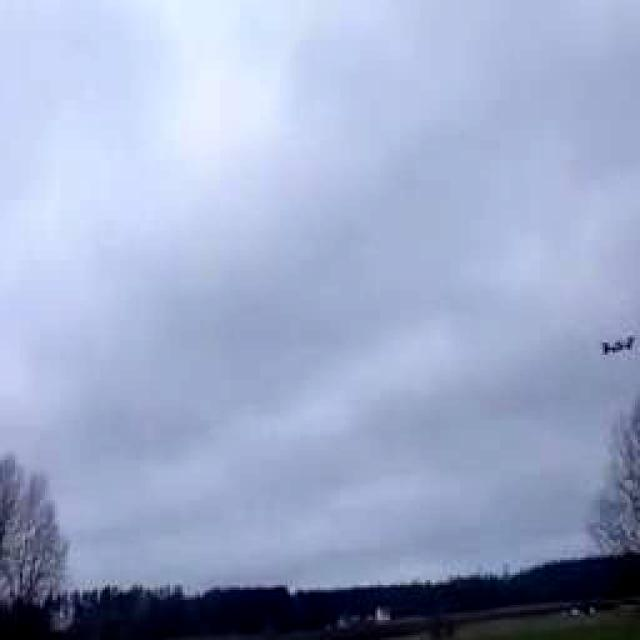bird: (579, 309, 640, 369)
